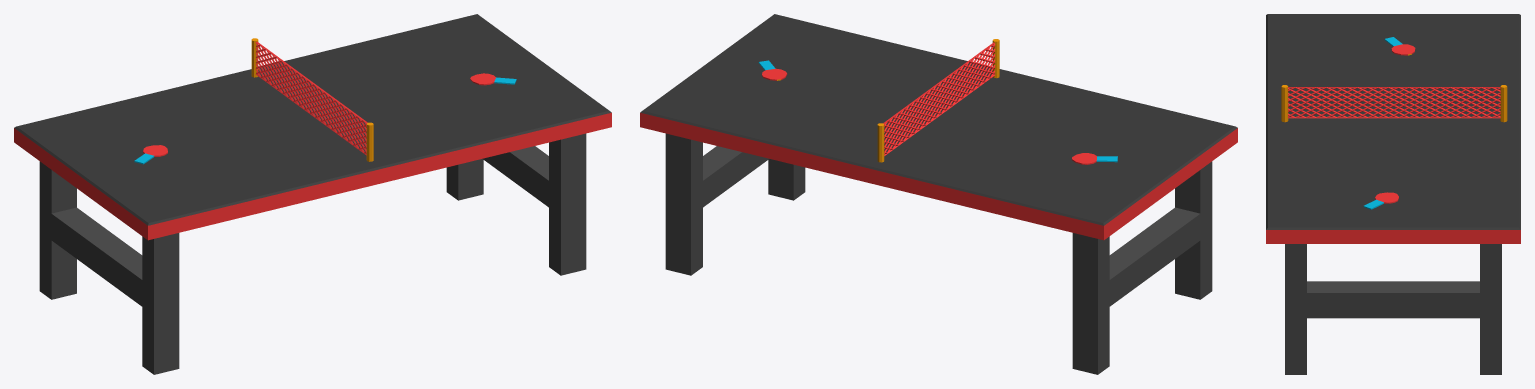
File: GameTable.fbx
3 renders of one model, left to right at view 1: azimuth 30°, elevation 25°; view 2: azimuth 150°, elevation 25°; view 3: azimuth 270°, elevation 25°, orthographic. The views are drawn at different scales.
Parts seen in each view (by area): view 1: Table_game; view 2: Table_game; view 3: Table_game.
Boxes of the visible parts, box(x1,y1,x2,y2) form: Table_game: box(14, 14, 611, 374); Table_game: box(640, 14, 1237, 374); Table_game: box(1266, 14, 1520, 374).
Size of the model in its own units: 300 by 122 by 150.
